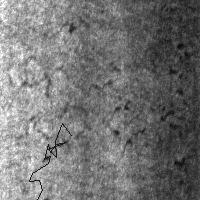crazing: (4, 54, 147, 161), (158, 24, 200, 173), (29, 123, 71, 200)
